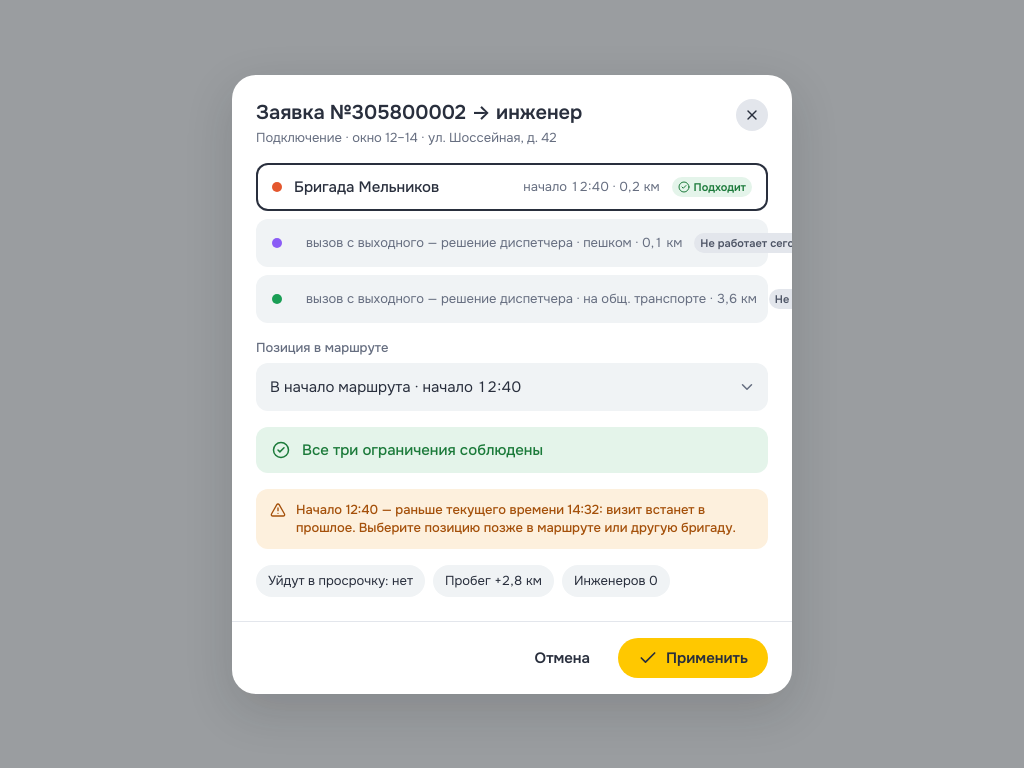
Scenario: DS-08 «Ручное переназначение» › ближайшие проверяются сразу; «Подходит» → «Применить» → reassign и сразу apply
The image size is (1024, 768).
Expected: the button "Бригада Мельников начало 12:40 · 0,2 км Подходит" is shown, [256,162,768,210]
Expected: the button named "Перов" shows "пешком · 0,1 км", [256,218,768,266]
Click the button "Применить" at point(693, 658), box [618,638,768,678]
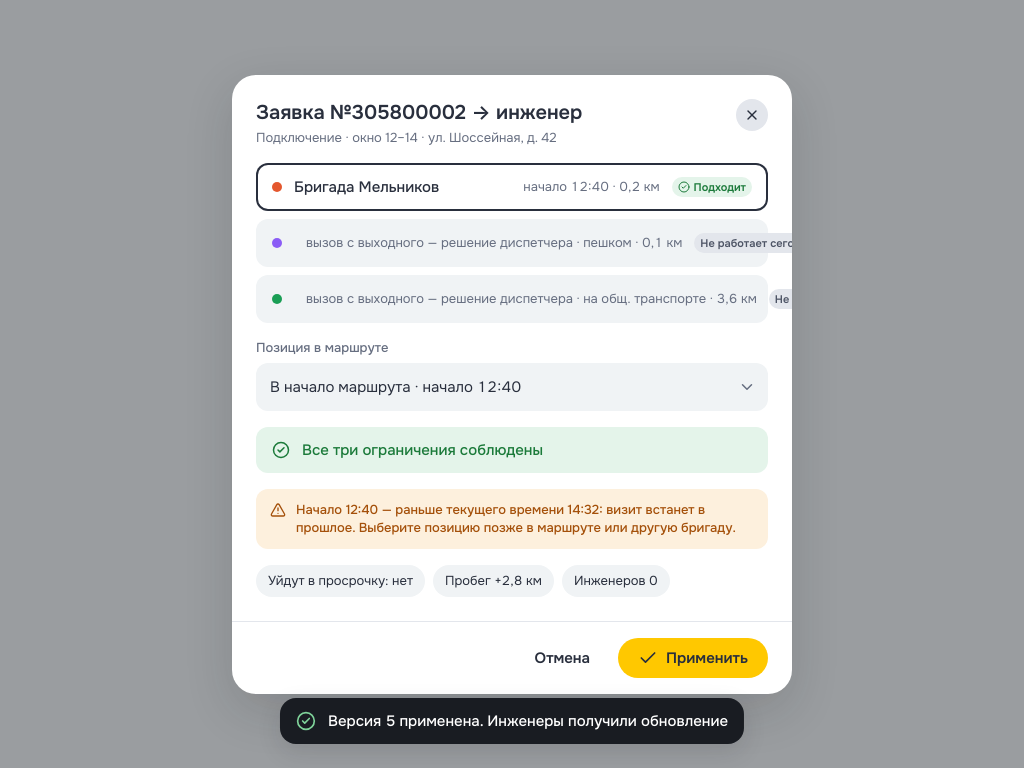
Now the text "Версия 5 применена. Инженеры получили обновление" is shown, box [328,710,728,732]
